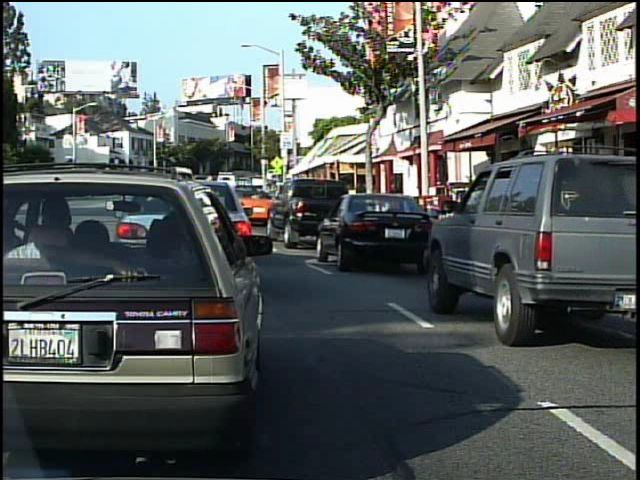person: (589, 145, 623, 238)
